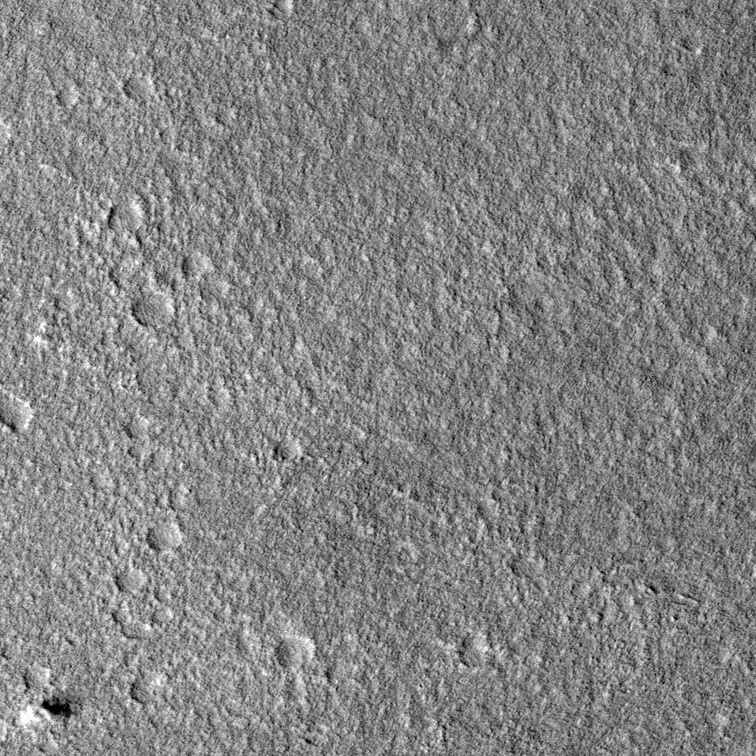dust_devil: (15, 692, 84, 735)
